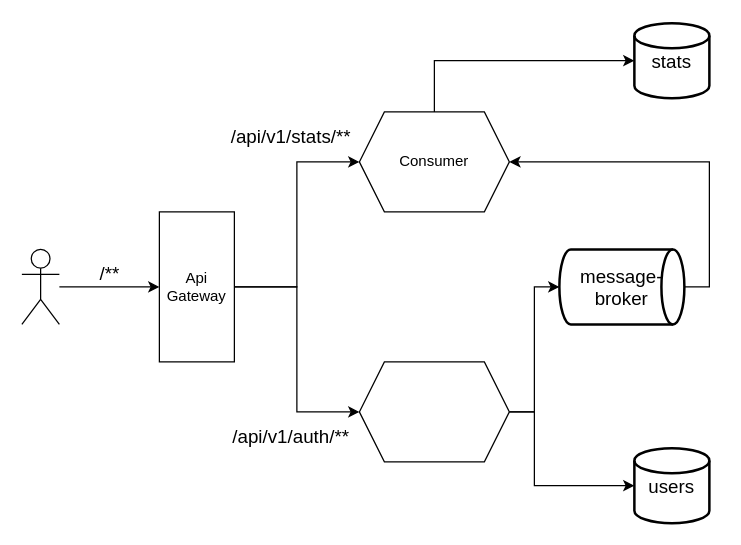
This 741x545 diagram has some shape labels left out. Here are the shapes that lost their labels. From the top down, the centre of each, then its label:
At (x=40, y=286): "User".
At (x=433, y=411): "Producer".
